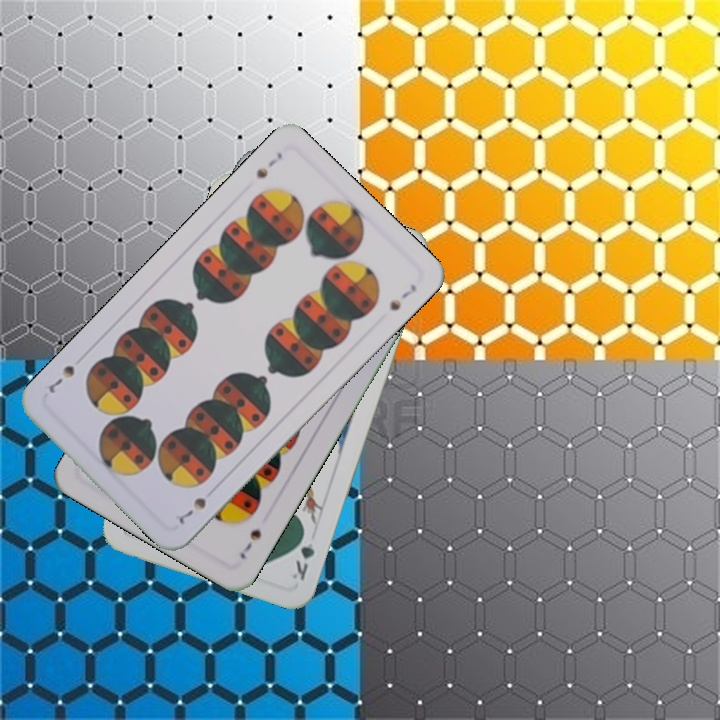GK: (288, 525, 317, 584)
S7: (174, 493, 209, 528), (252, 147, 285, 181), (235, 525, 264, 562)
